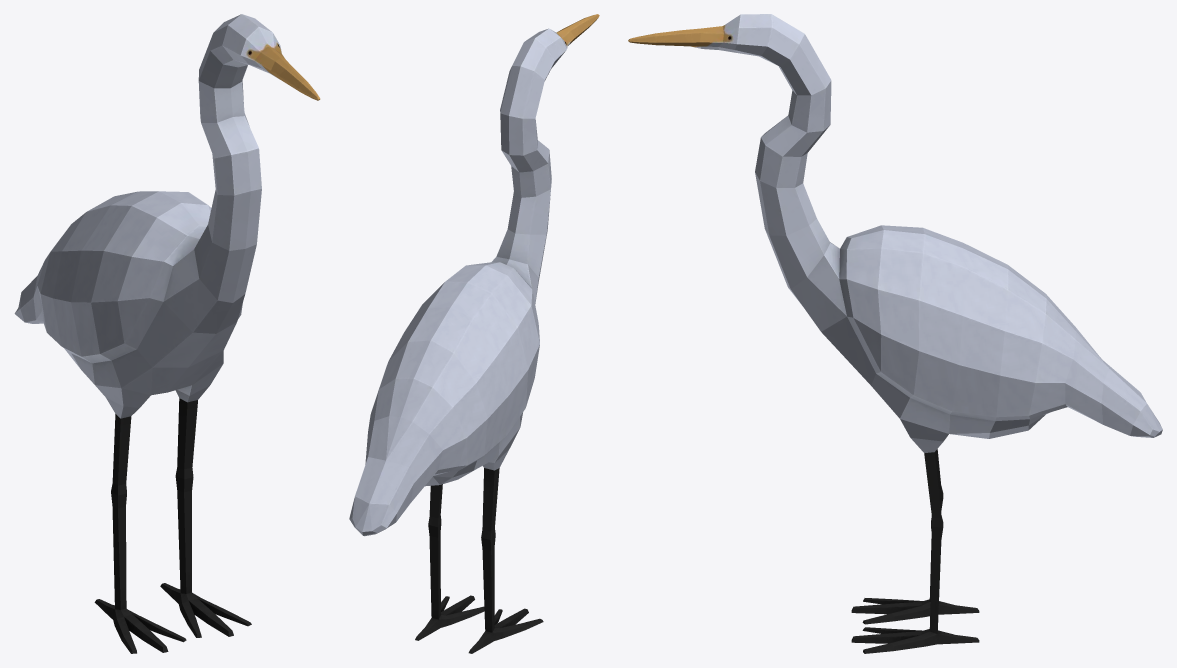
File: egret.glb
3 renders of one model, left to right at view 1: azimuth 30°, elevation 25°; view 2: azimuth 150°, elevation 25°; view 3: azimuth 270°, elevation 25°, orthographic. The views are drawn at different scales.
Visible parts, largest first — view 1: GreatEgret_Mesh; view 2: GreatEgret_Mesh; view 3: GreatEgret_Mesh.
Part boxes in pixels (x1=…): GreatEgret_Mesh: x1=14, y1=14, x2=320, y2=653; GreatEgret_Mesh: x1=349, y1=14, x2=599, y2=653; GreatEgret_Mesh: x1=628, y1=14, x2=1162, y2=653.
Size of the model in its own units: 1.04 by 4.63 by 3.66.
Materials: 1 (1 with a texture image).
